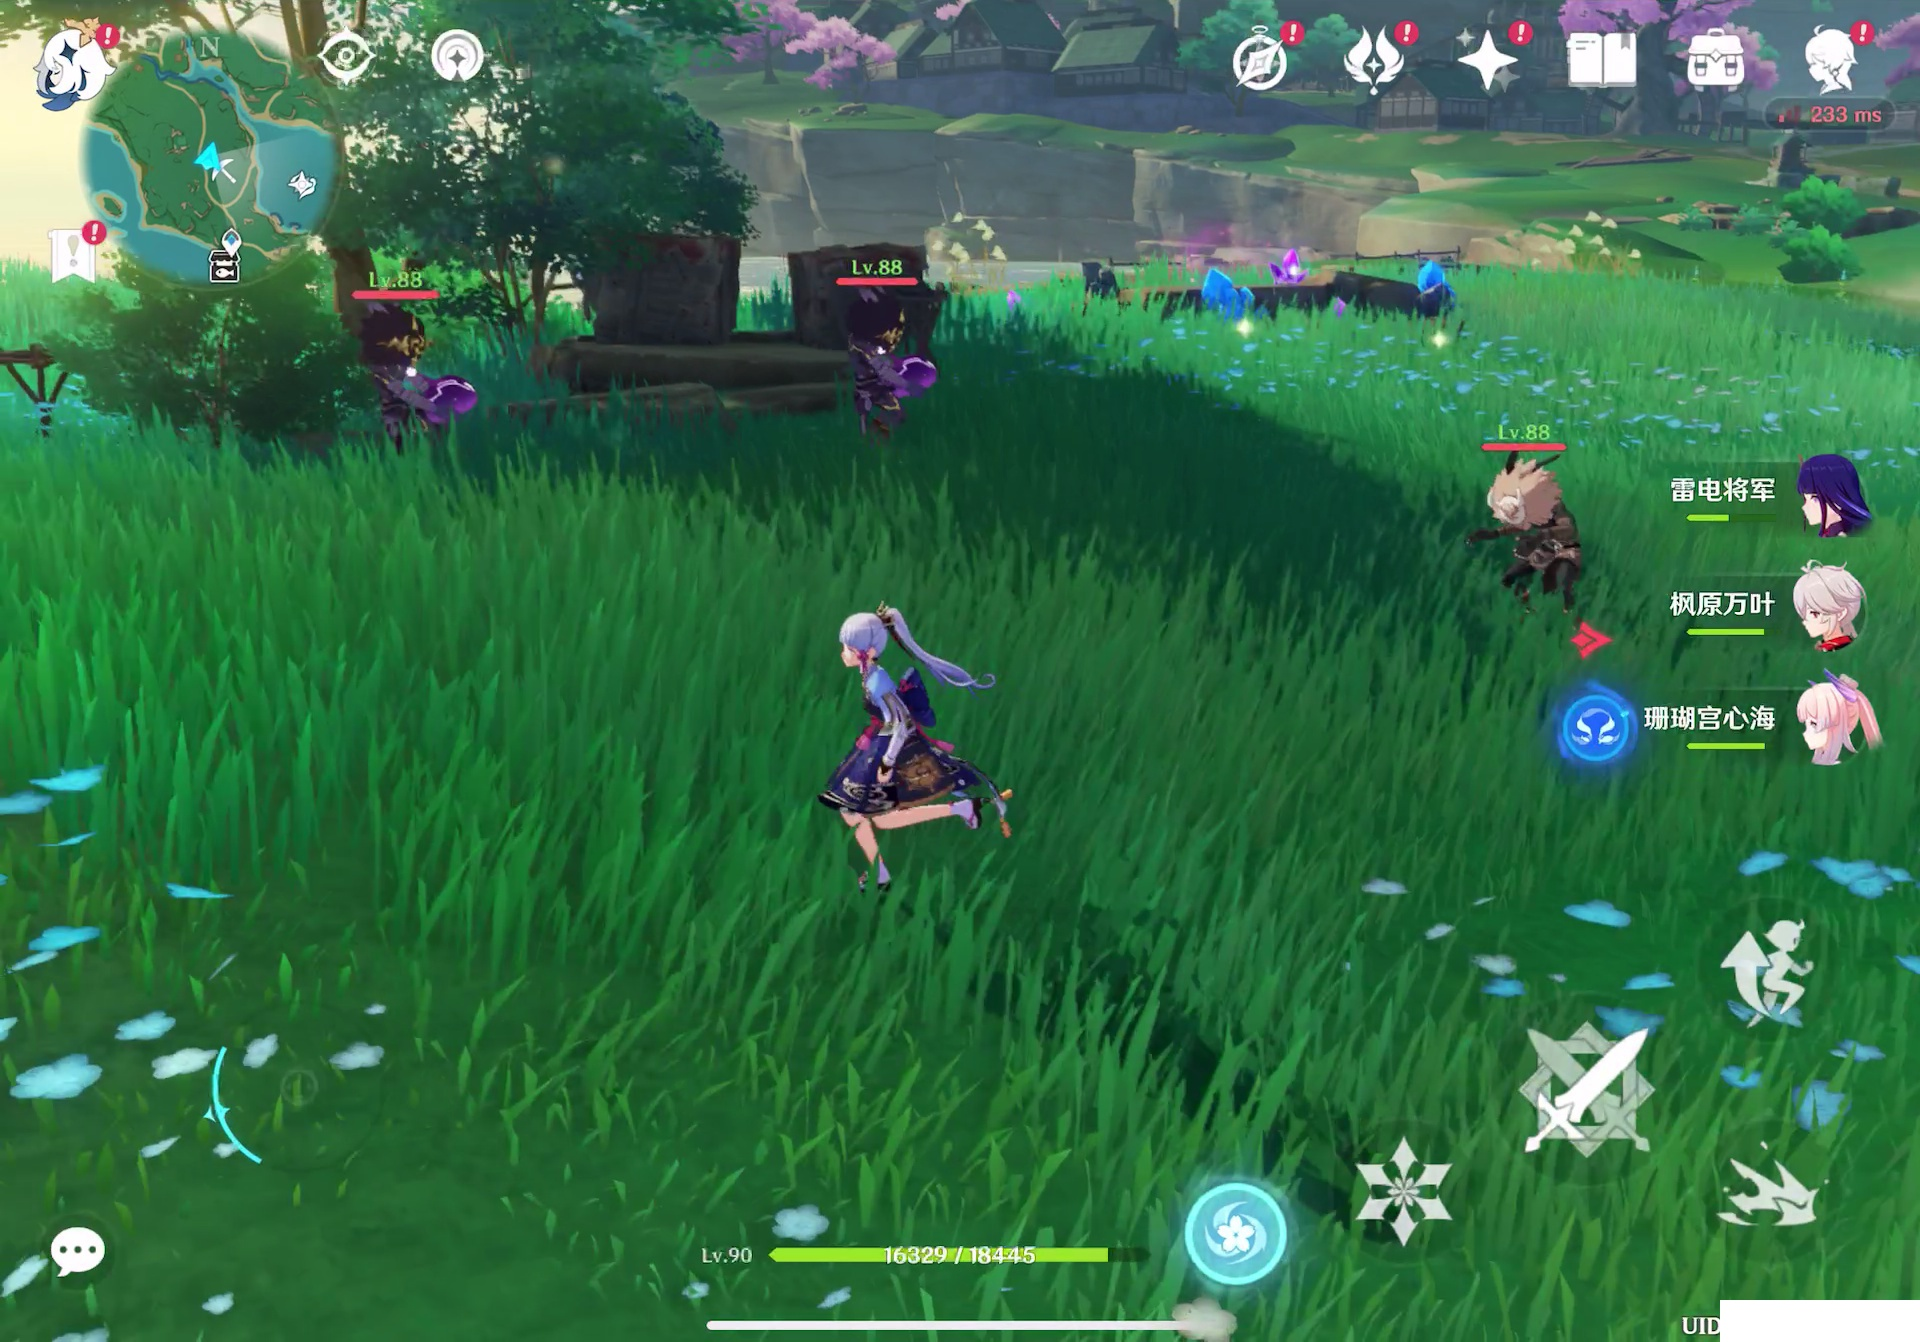丘丘人: (845, 300, 956, 465), (353, 305, 477, 446), (1485, 454, 1595, 608)
神里绫龟: (814, 591, 1021, 856)
